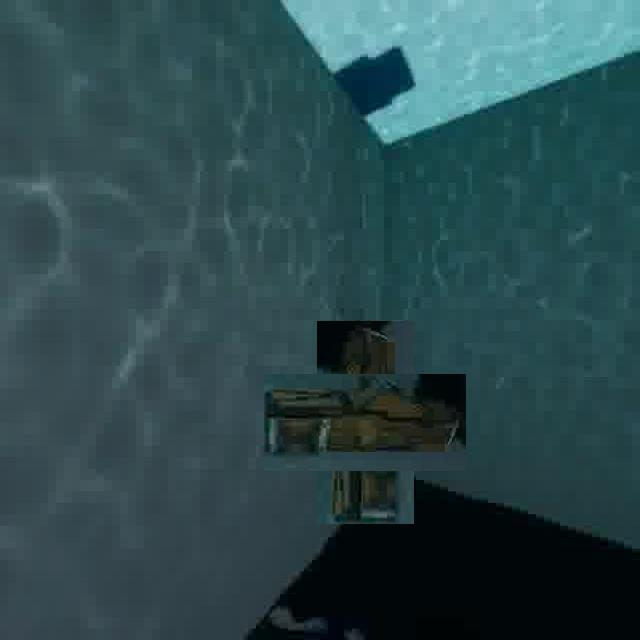Control Panel: (290, 348, 440, 498)
